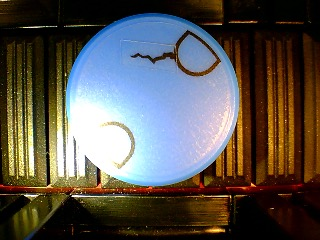CRACK: (65, 13, 240, 187)
